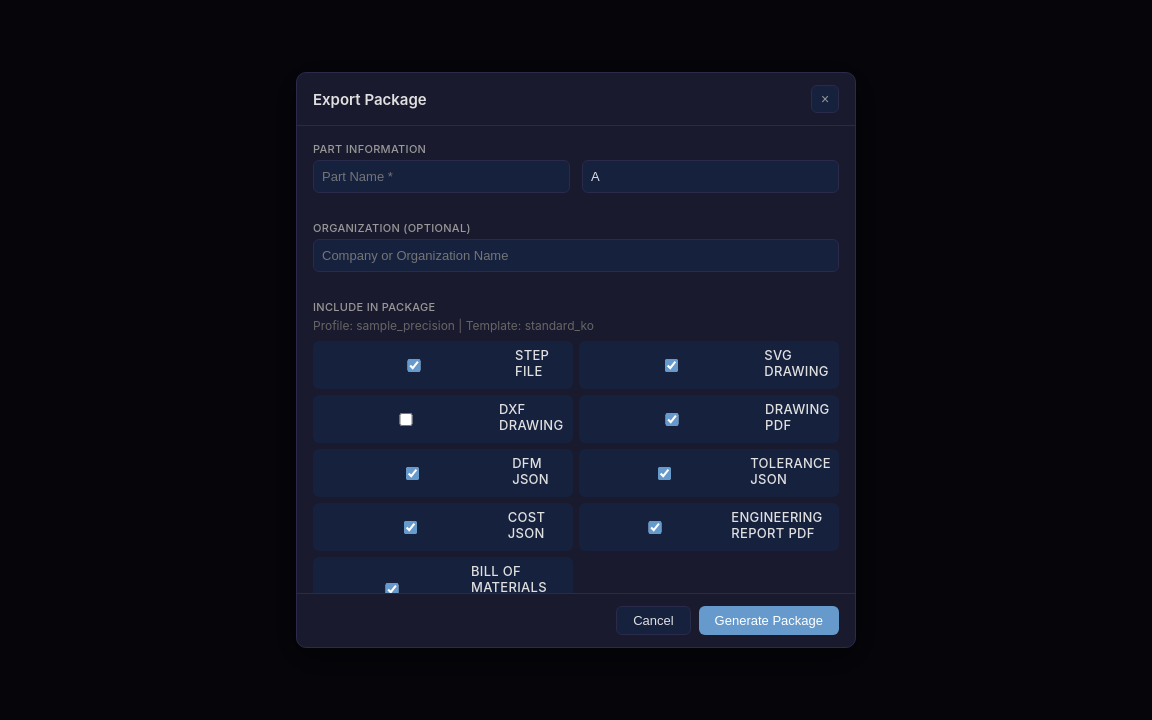
ExportPackModal › renders defaults and updates package preview when include options change
Check: the heading "Export Package" is shown, box left=313, top=90, right=427, bottom=108
Check: the text "Profile: sample_precision | Template: standard_ko" is shown, box left=313, top=318, right=594, bottom=333
Click the checkbox labelled "DXF Drawing" at coordinates (406, 419), box left=321, top=412, right=491, bottom=426
(page scrolled)
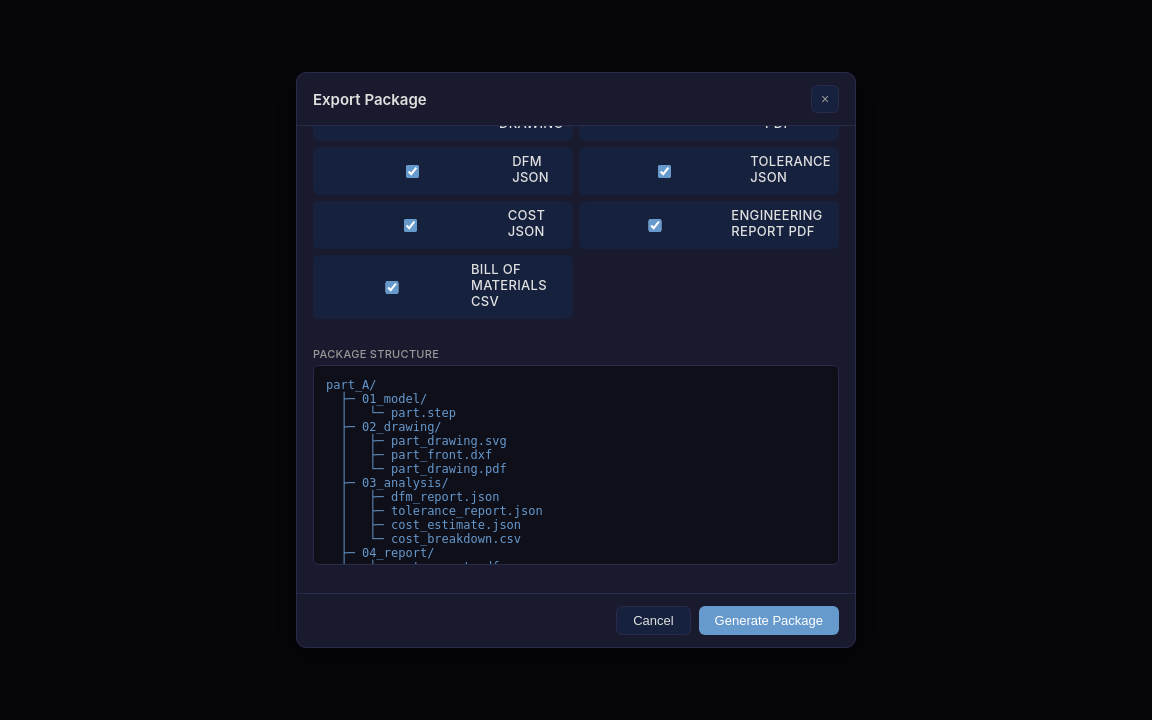
Check: the text with class "folder-preview" shows "part_front.dxf", box left=326, top=378, right=543, bottom=593
